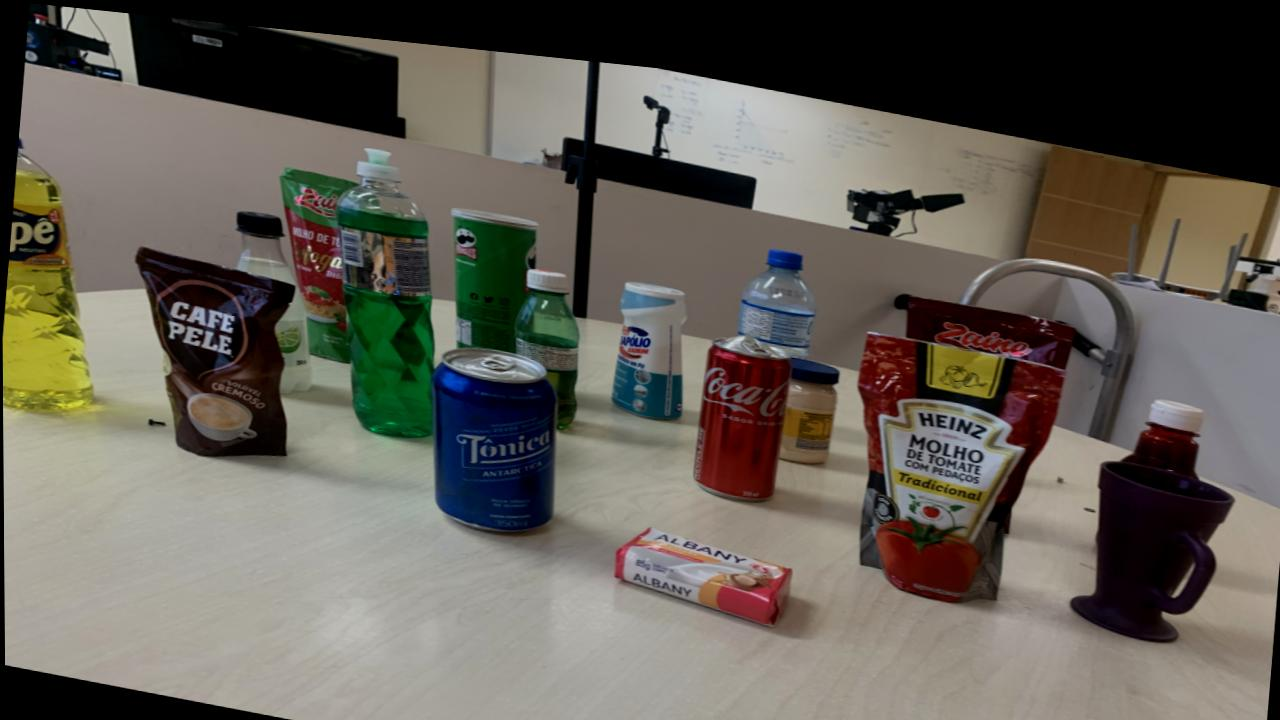Cleaner-Cleanup_Items: (611, 267, 687, 405)
Coffee-Pantry_Items: (134, 245, 294, 452)
Coke-Drinks: (693, 319, 791, 486)
Detergent-Cleanup_Items: (335, 169, 434, 429), (2, 140, 91, 410), (357, 140, 402, 174)
Ketchup-Pantry_Items: (1120, 373, 1203, 453)
Mayonnaise-Pantry_Items: (779, 340, 839, 447)
Pringles-Snacks: (452, 198, 537, 341)
Soap-Cleanup_Items: (612, 513, 790, 609)
Soda-Drinks: (513, 258, 579, 417), (235, 206, 297, 280), (235, 206, 297, 279), (273, 284, 310, 387), (275, 284, 310, 387), (514, 327, 578, 360)
Tomato_Sauce-Pantry_Items: (858, 314, 1064, 583), (279, 162, 356, 355), (905, 276, 1073, 346)
Tonic-Drinks: (431, 338, 556, 522)
Water_Bottle-Drinks: (736, 232, 817, 341)
